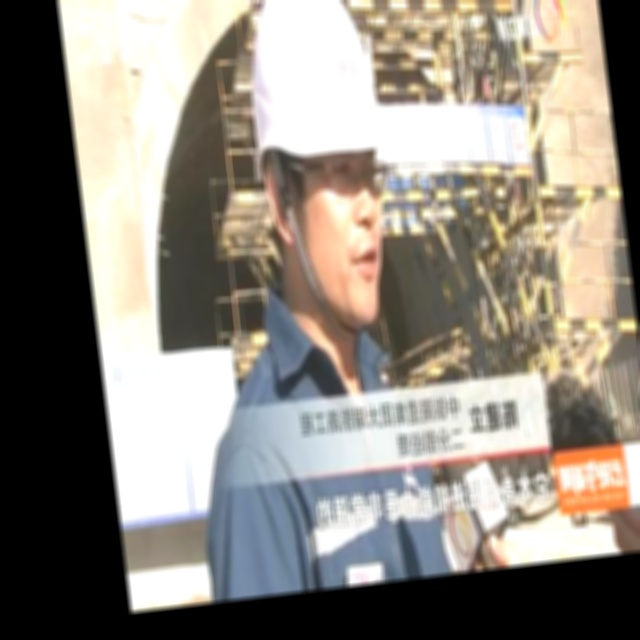Con_Casco: (236, 0, 403, 335)
